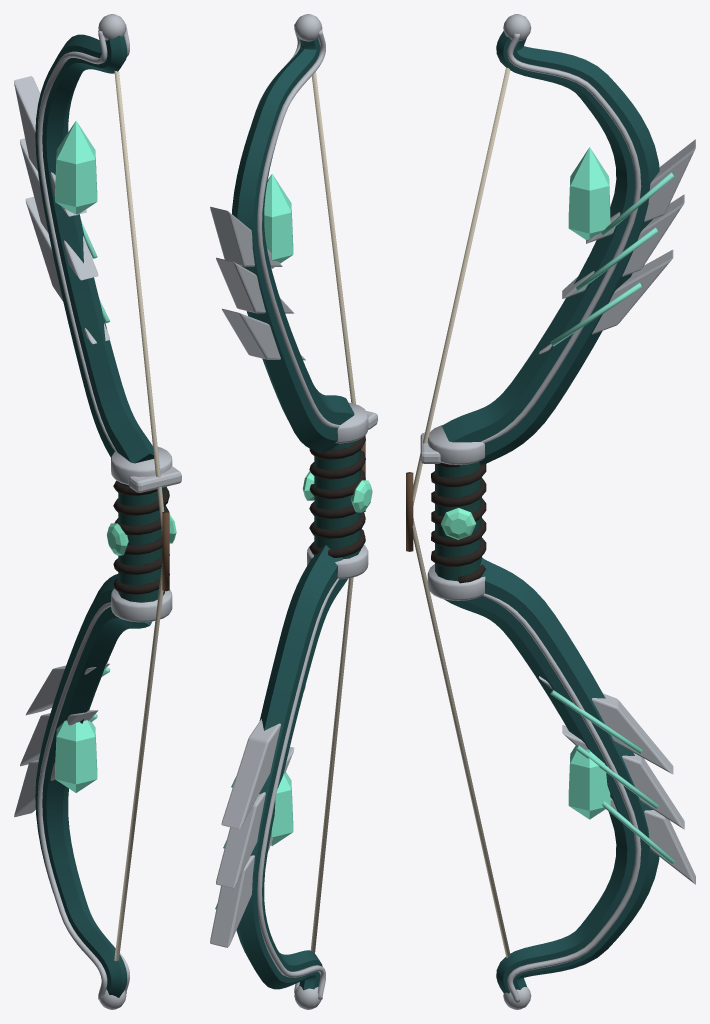
The model's file is bow_gale.fbx.
3 renders of one model, left to right at view 1: azimuth 30°, elevation 25°; view 2: azimuth 150°, elevation 25°; view 3: azimuth 270°, elevation 25°, orthographic.
Parts seen in each view (by area): view 1: bow_gale; view 2: bow_gale; view 3: bow_gale.
Boxes of the visible parts, x1=… form: bow_gale: x1=14, y1=14, x2=181, y2=1009; bow_gale: x1=210, y1=14, x2=377, y2=1009; bow_gale: x1=406, y1=14, x2=695, y2=1009.
Size of the model in its own units: 0.0737 by 1.17 by 0.3092.
